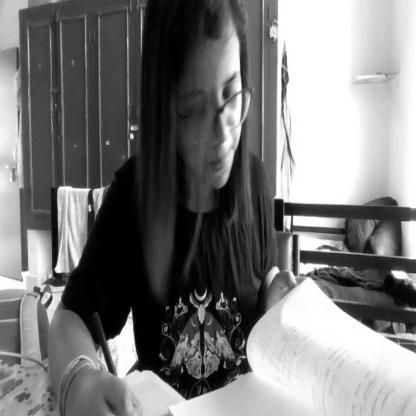Distracted: (154, 0, 248, 198)
